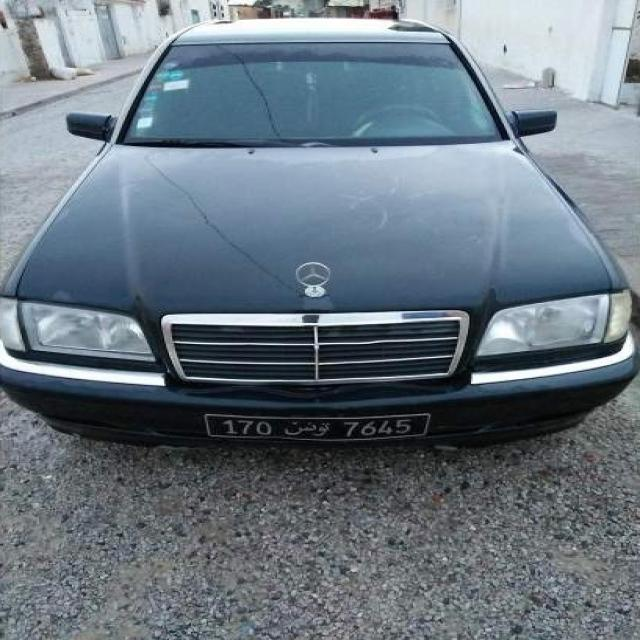licence plate: (211, 417, 427, 435)
